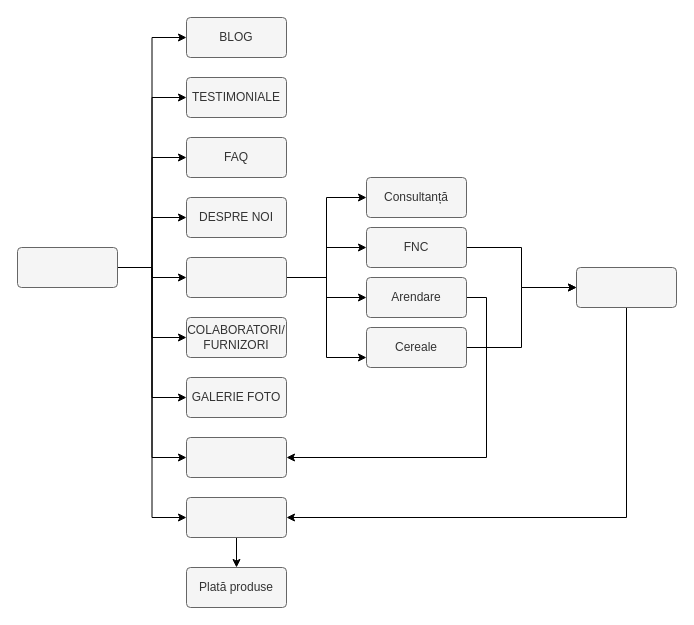
This 694x625 diagram has some shape labels left out. Here are the shapes that lost their labels. From the top down, the box of each, then its label:
(16, 246, 118, 288): HOME
(186, 256, 286, 298): SERVICII & PRODUSE
(576, 266, 676, 308): Produse
(186, 436, 286, 478): CONTACT
(186, 496, 286, 538): COȘ DE CUMPĂRĂTURI
